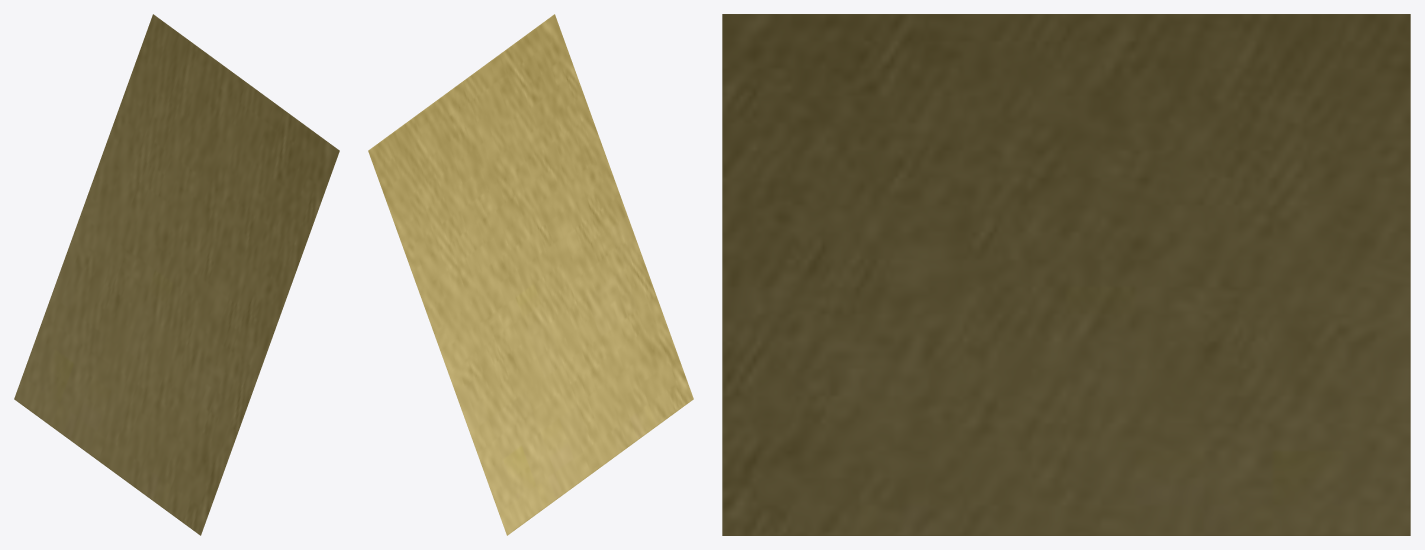
The picture shows the model from 3 angles, left to right: view 1: azimuth 30°, elevation 25°; view 2: azimuth 150°, elevation 25°; view 3: azimuth 270°, elevation 25°; orthographic projection. The views are drawn at different scales.
Parts seen in each view (by area): view 1: 4_base__material_5_25_8; view 2: 4_base__material_5_25_8; view 3: 4_base__material_5_25_8.
Part boxes in pixels (<box>): 4_base__material_5_25_8: <box>14,14,339,535</box>; 4_base__material_5_25_8: <box>368,14,693,535</box>; 4_base__material_5_25_8: <box>722,14,1410,535</box>.
Bounding box in the file's own units: 0.000159 × 0.000383 × 0.000369.
Materials: 1 (1 with a texture image).
